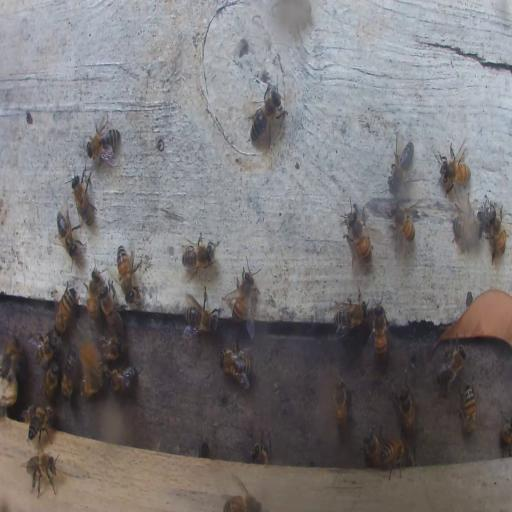nonpollenbee: (245, 82, 288, 146), (222, 259, 258, 326), (342, 197, 374, 261), (85, 112, 121, 166), (438, 138, 470, 192), (184, 286, 219, 334), (480, 198, 506, 262), (180, 232, 217, 276), (218, 342, 252, 387), (24, 454, 60, 496), (437, 345, 465, 399), (69, 169, 95, 227), (56, 206, 83, 260), (393, 379, 416, 442), (332, 294, 368, 334), (388, 138, 414, 190), (379, 434, 409, 478), (23, 404, 55, 445), (98, 282, 124, 332), (116, 244, 138, 297), (332, 368, 350, 432), (54, 284, 76, 336), (453, 213, 483, 251), (369, 302, 388, 361), (391, 204, 417, 246), (458, 382, 476, 435), (106, 365, 138, 393), (84, 267, 101, 319), (34, 330, 58, 366), (2, 335, 20, 379), (62, 349, 77, 400), (42, 361, 60, 401), (363, 426, 380, 468), (98, 334, 122, 361), (223, 495, 261, 511), (250, 438, 270, 464), (500, 410, 512, 452), (4, 378, 18, 404)
pollenbee: (76, 326, 102, 389)
